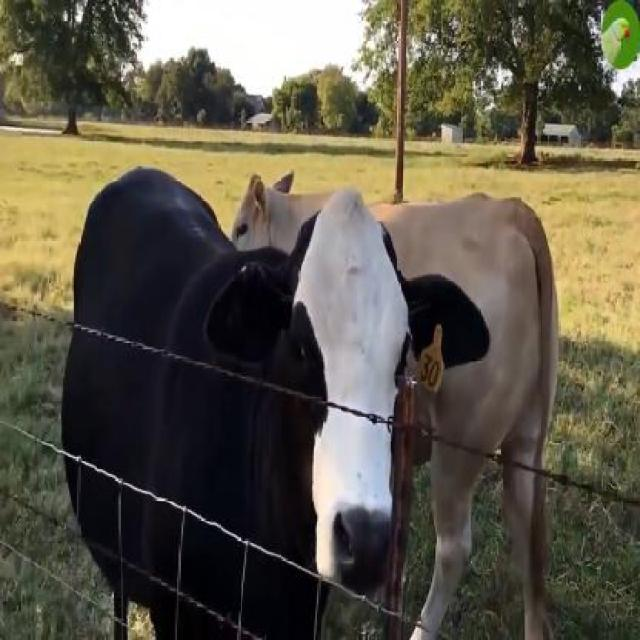Cow: (62, 170, 489, 638)
